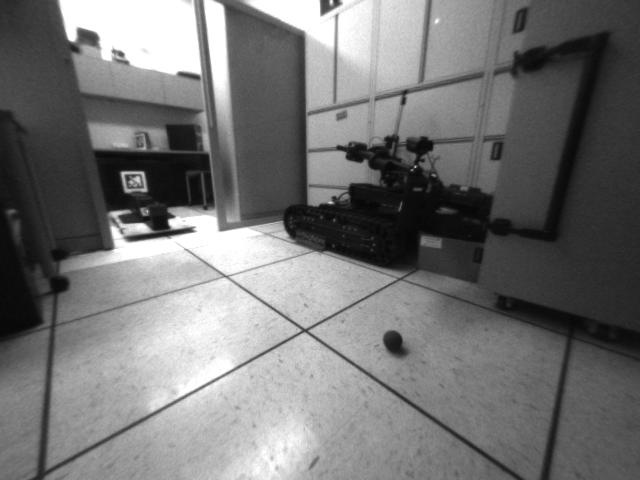dogtoy: (380, 324, 414, 358)
